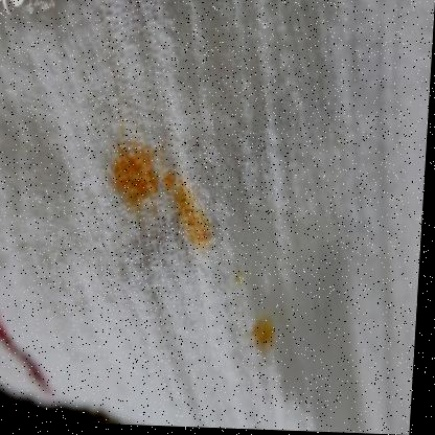kimchi: (101, 144, 162, 210), (164, 173, 214, 249), (243, 315, 278, 359), (230, 269, 249, 287)
